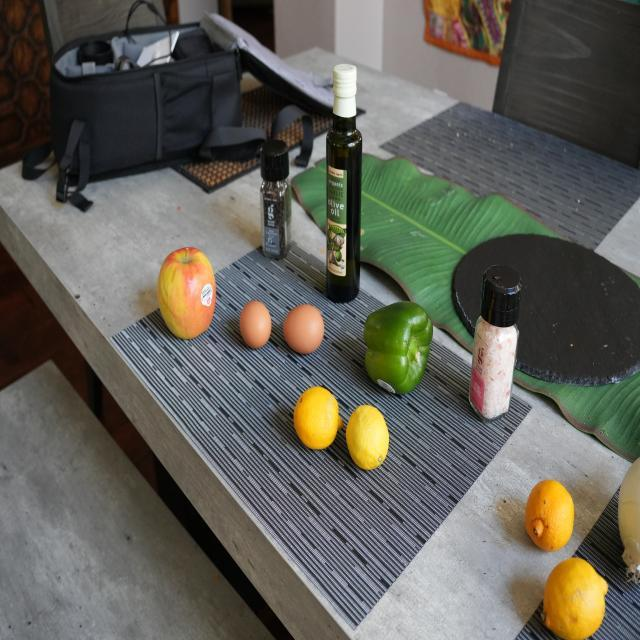bell_pepper: (359, 299, 439, 399), (258, 144, 296, 258)
egg: (284, 300, 330, 361), (239, 299, 274, 353)
onion: (621, 442, 640, 590)
